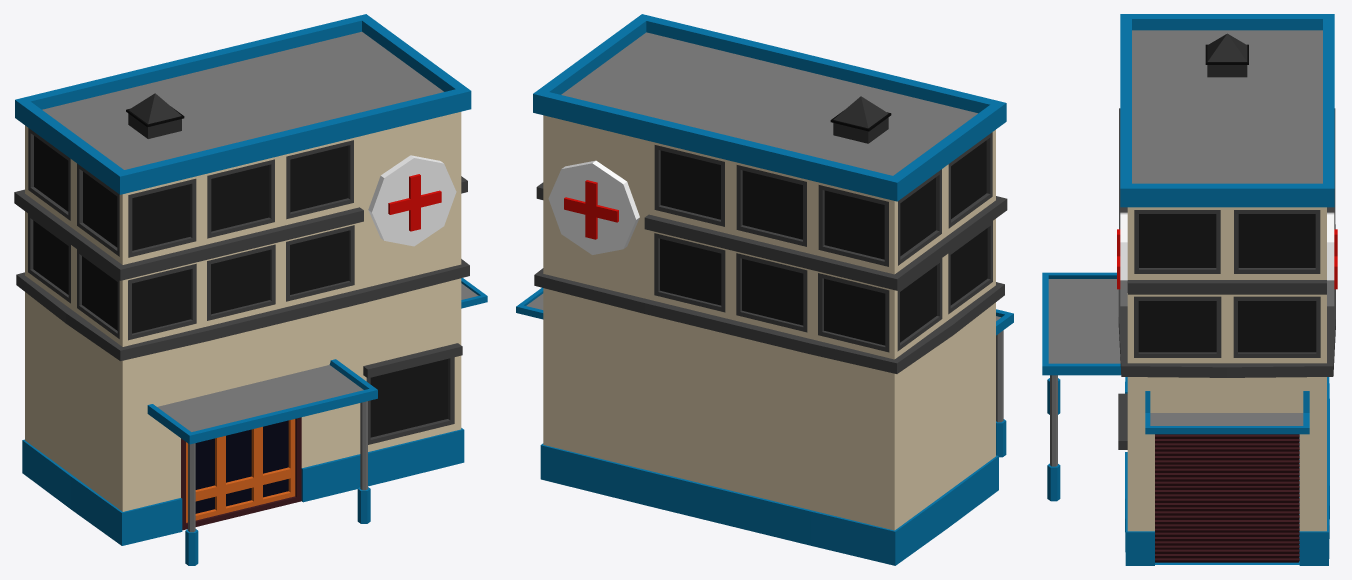
The model's file is Hospital.fbx.
3 views of the same model, side by side, from view 1: azimuth 30°, elevation 25°; view 2: azimuth 150°, elevation 25°; view 3: azimuth 270°, elevation 25° (orthographic). The views are drawn at different scales.
Parts seen in each view (by area): view 1: Circle; view 2: Circle; view 3: Circle.
Part boxes in pixels (x1,y1,x2,y2): Circle: [14, 14, 487, 565]; Circle: [516, 14, 1013, 565]; Circle: [1042, 14, 1337, 565].
Bounding box in the file's own units: 901 × 895 × 594.
